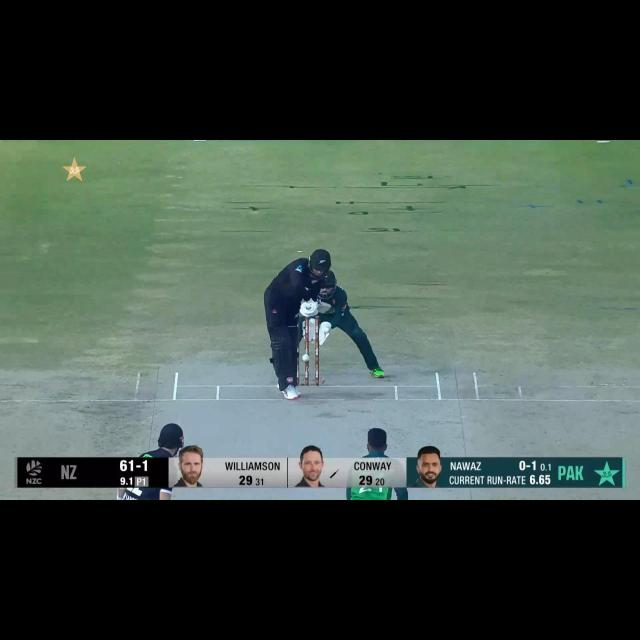bat: (318, 300, 330, 316)
toe: (322, 304, 333, 316)
